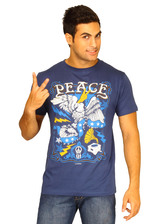clothoes: (31, 56, 140, 204)
